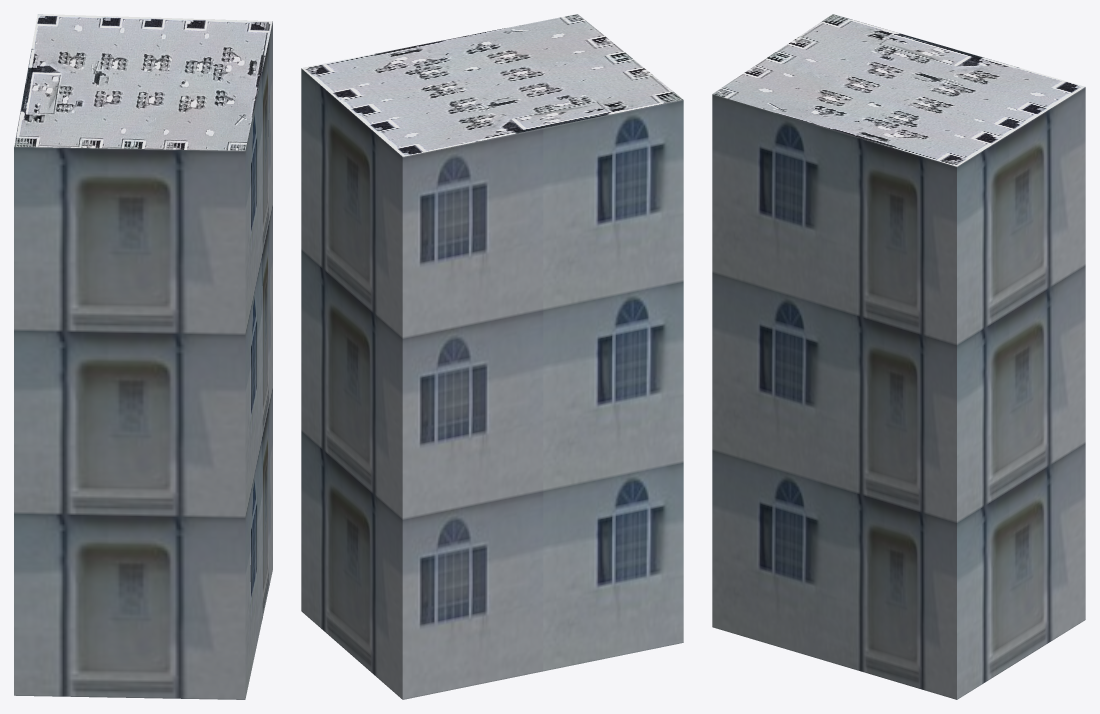
File: ResTex__5261.fbx
The picture shows the model from 3 angles, left to right: view 1: azimuth 30°, elevation 25°; view 2: azimuth 150°, elevation 25°; view 3: azimuth 270°, elevation 25°; orthographic projection. The views are drawn at different scales.
Visible parts, largest first — view 1: CityEngineMaterial_17_m, CityEngineMaterial_2_m; view 2: CityEngineMaterial_17_m, CityEngineMaterial_2_m; view 3: CityEngineMaterial_17_m, CityEngineMaterial_2_m.
Part boxes in pixels (x1=…): CityEngineMaterial_17_m: x1=14, y1=21, x2=272, y2=699; CityEngineMaterial_2_m: x1=14, y1=14, x2=272, y2=150; CityEngineMaterial_17_m: x1=301, y1=68, x2=683, y2=699; CityEngineMaterial_2_m: x1=301, y1=14, x2=683, y2=156; CityEngineMaterial_17_m: x1=712, y1=87, x2=1085, y2=699; CityEngineMaterial_2_m: x1=712, y1=14, x2=1085, y2=166.
Bounding box in the file's own units: 5.53 × 9 × 5.71.
Materials: 2 (2 with a texture image).
